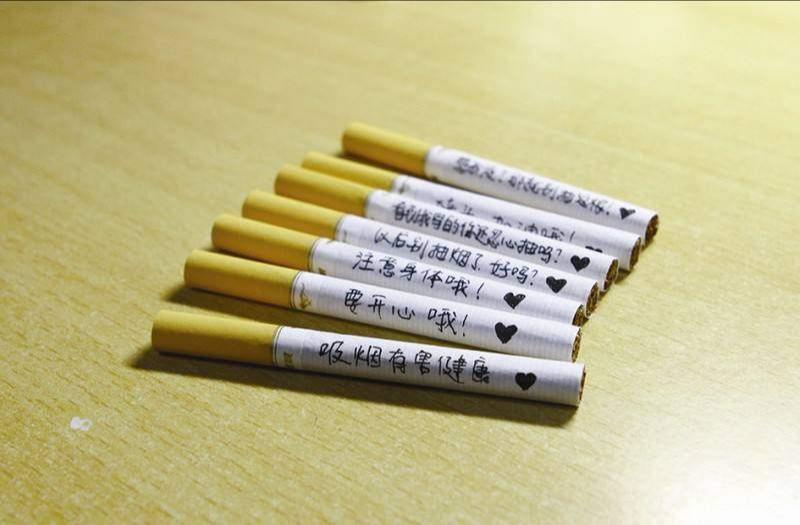Cigarette: (180, 247, 581, 362), (239, 190, 599, 318), (208, 214, 583, 332), (274, 164, 618, 292), (148, 310, 586, 407), (298, 150, 642, 270), (341, 122, 662, 246)
